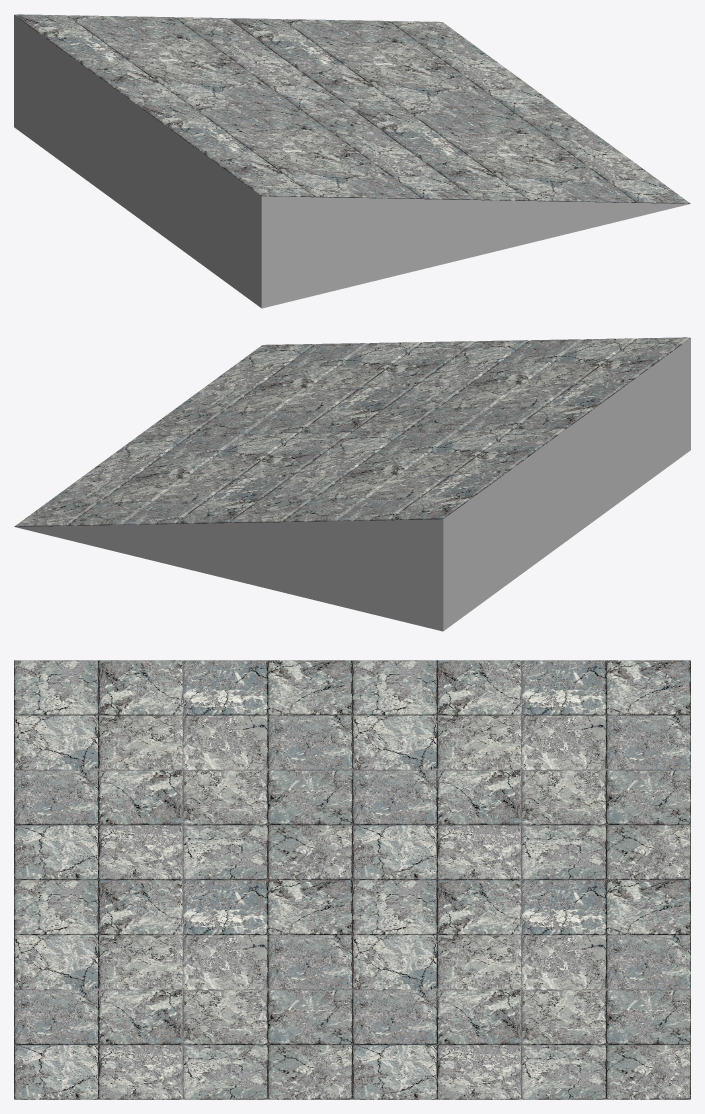
Rendered from Rampe_2m.gltf.
3 renders of one model, top to bottom at view 1: azimuth 30°, elevation 25°; view 2: azimuth 150°, elevation 25°; view 3: azimuth 270°, elevation 25°, orthographic. The views are drawn at different scales.
Parts seen in each view (by area): view 1: Rampe_2m; view 2: Rampe_2m; view 3: Rampe_2m.
Boxes of the visible parts, x1,y1,x2,y2 form: Rampe_2m: (14, 14, 690, 308); Rampe_2m: (14, 337, 690, 631); Rampe_2m: (14, 660, 690, 1099).
Size of the model in its own units: 8 by 2.02 by 8.
